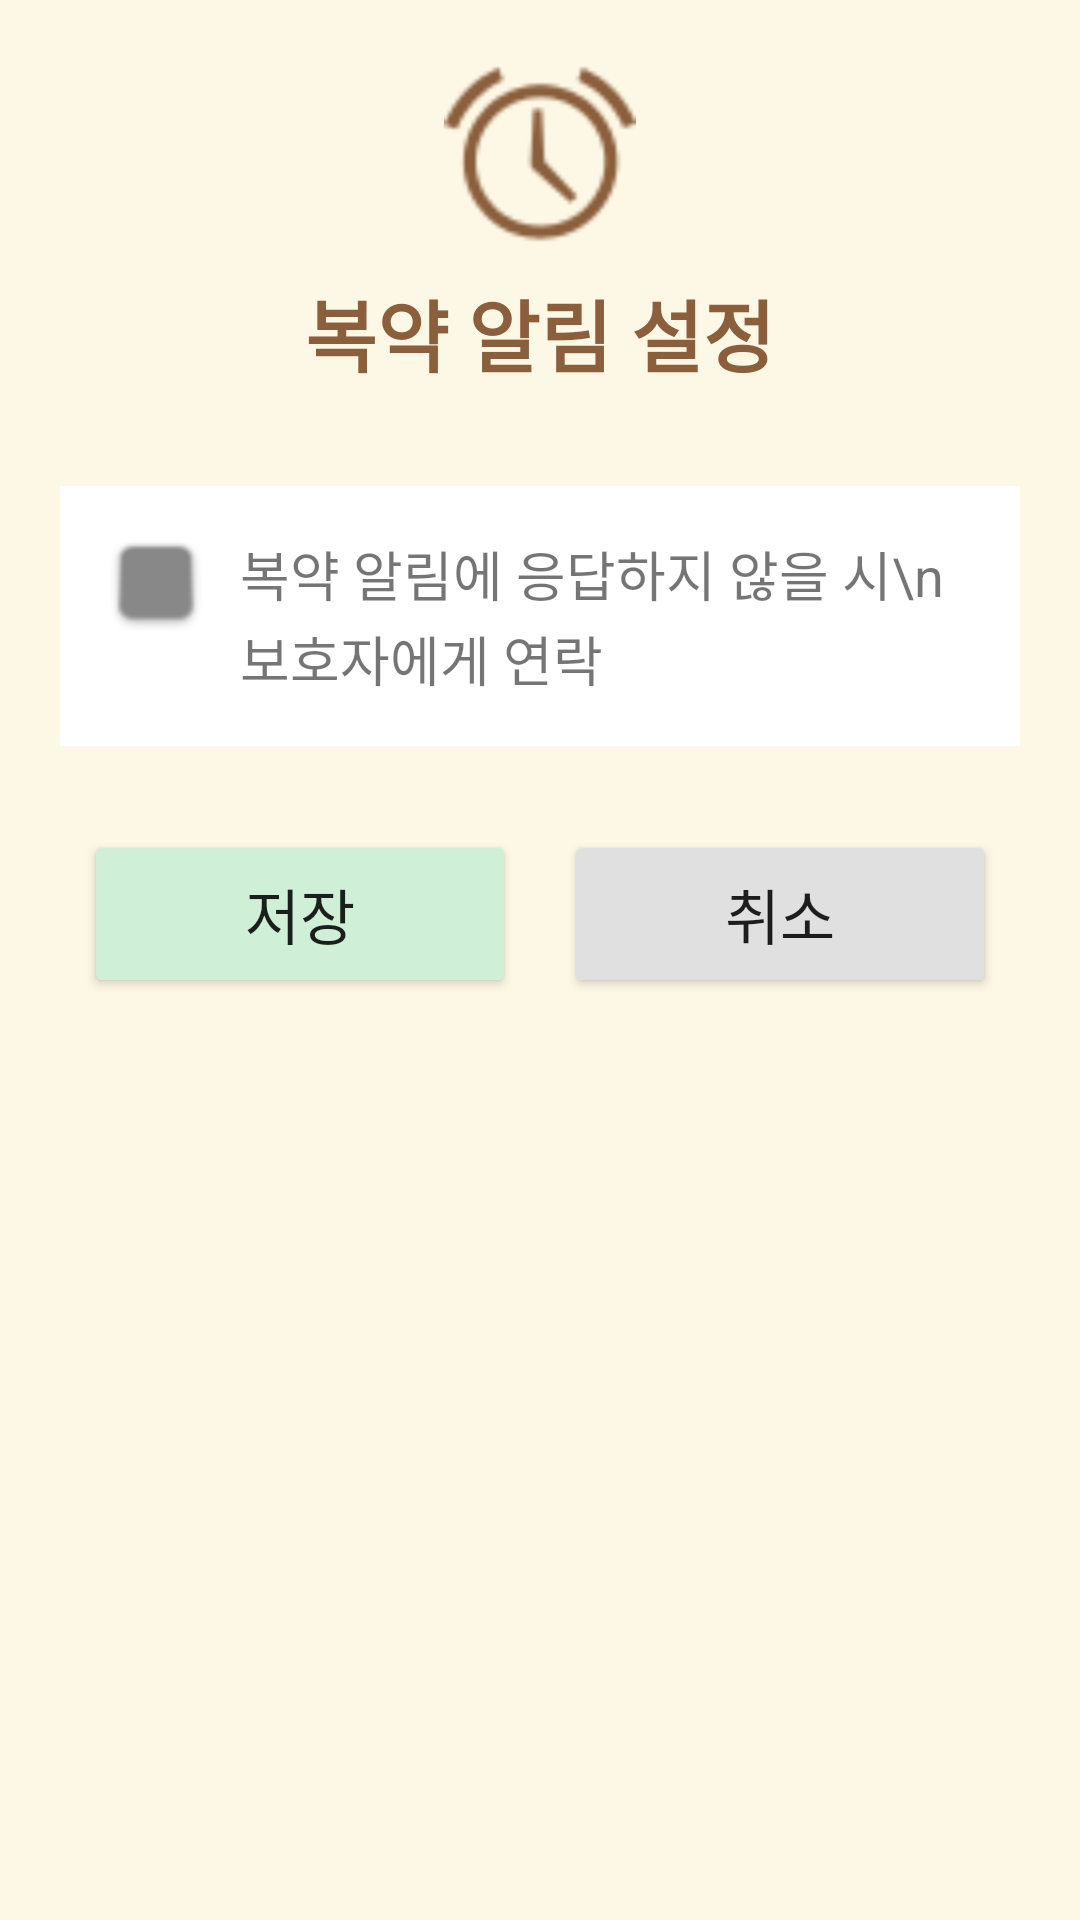

Where to tap for icons on this 1080 x 1920 app screen, as point (x, y):
lock idle alarm: point (540, 154)
